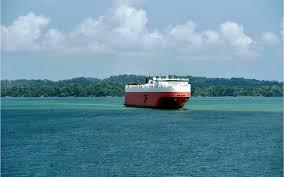Ship: (125, 78, 192, 110)
